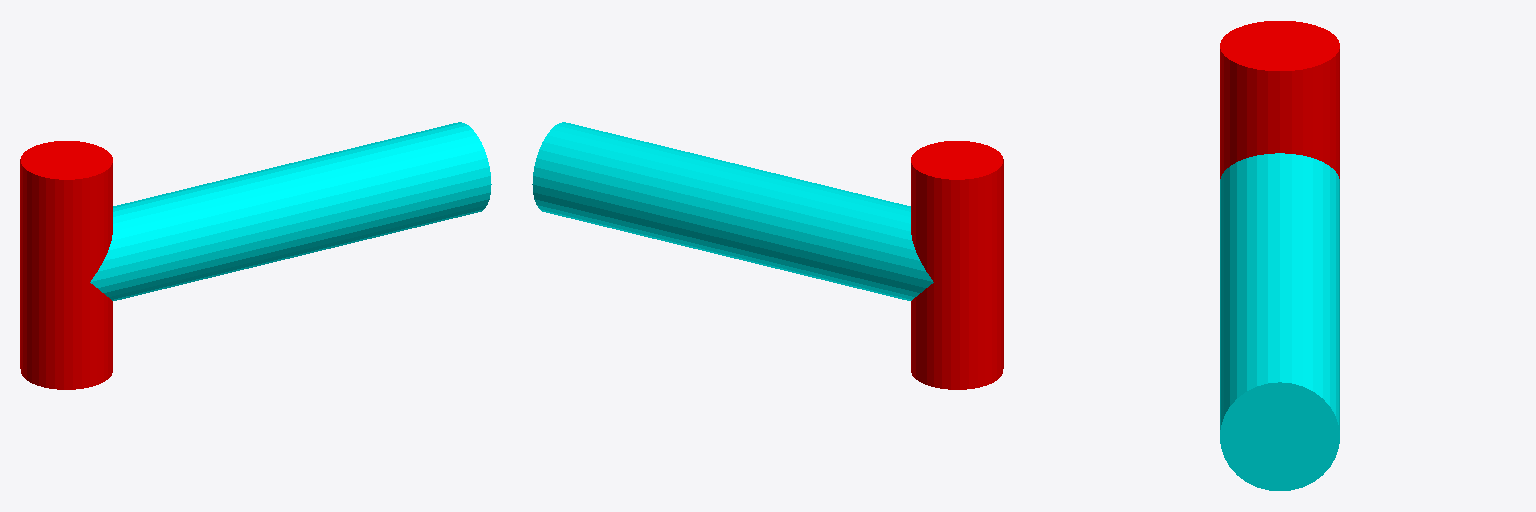
robot.urdf — planar_2d:
<robot name="planar_2d">
    <link name="base_link">
    	  <visual>
	      <origin xyz="0 0 .05" rpy="0 0 0" />
     	      <geometry>
		    <cylinder radius=".02" length=".1" />
     	      </geometry>
	      <material name="Red">
       		    <color rgba="1.0 0.0 0.0 1.0"/>
     	      </material>
   	   </visual>        
    </link>

    <link name="link1">
    	  <visual>
	      <origin xyz=".05 0 0" rpy="0 1.57079 0" />
     	      <geometry>
		    <cylinder radius=".02" length=".1" />
     	      </geometry>
	      <material name="Cyan">
       		    <color rgba="0 1.0 1.0 1.0"/>
     	      </material>
   	   </visual>
    </link>

    <link name="link2">
    	  <visual>
	      <origin xyz=".05 0 0" rpy="0 1.57079 0" />
     	      <geometry>
		    <cylinder radius=".02" length=".1" />
     	      </geometry>
	      <material name="Cyan">
       		    <color rgba="0 1.0 1.0 1.0"/>
     	      </material>
   	   </visual>
    </link>

    <link name="link3"/>

    <joint name="joint1" type="continuous">
    	   <parent link="base_link"/>
	   <child link="link1"/>
	   <origin xyz="0 0 .05" rpy="0 0 0"/>
	   <axis xyz="0 0 1"/>
    </joint>

    <joint name="joint2" type="continuous">
    	   <parent link="link1"/>
	   <child link="link2"/>
	   <origin xyz=".1 0 0" rpy="0 0 0"/>
	   <axis xyz="0 0 1"/>
    </joint>
    <joint name="end_effector" type="fixed">
    	   <parent link="link2"/>
	   <child link="link3"/>
	   <origin xyz=".1 0 0" rpy="0 0 0"/>
	   <axis xyz="0 0 1"/>
    </joint>
</robot>

--- Render facts (derived) ---
The picture shows the robot from 3 angles, left to right: view 1: azimuth 30°, elevation 25°; view 2: azimuth 150°, elevation 25°; view 3: azimuth 270°, elevation 25°; orthographic projection.
Model planar_2d with 4 links and 3 joints (2 continuous, 1 fixed), rooted at base_link, posed every joint at zero.
Visible links, largest first — view 1: base_link, link2, link1; view 2: base_link, link2, link1; view 3: link2, base_link, link1.
Boxes of the visible links, bbox=[...] form: base_link: bbox=[20, 141, 112, 389]; link2: bbox=[261, 122, 491, 259]; link1: bbox=[90, 171, 290, 300]; base_link: bbox=[911, 141, 1003, 389]; link2: bbox=[532, 122, 762, 259]; link1: bbox=[733, 171, 933, 300]; link2: bbox=[1220, 255, 1339, 490]; base_link: bbox=[1220, 21, 1339, 178]; link1: bbox=[1220, 153, 1339, 302].
Size in the robot's own frame: 0.22 by 0.04 by 0.1 metres.
Geometry: primitives only (box / cylinder / sphere), no mesh files.